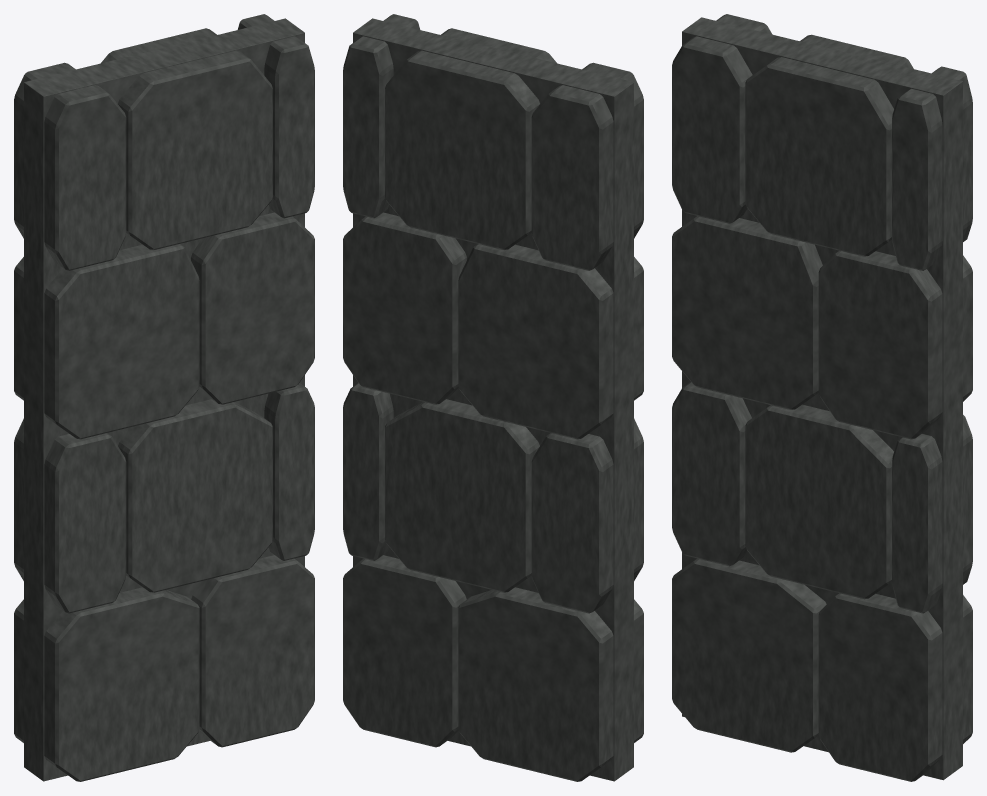
The model's file is wall_cave_a.glb.
The picture shows the model from 3 angles, left to right: view 1: azimuth 30°, elevation 25°; view 2: azimuth 150°, elevation 25°; view 3: azimuth 330°, elevation 25°; orthographic projection.
Parts seen in each view (by area): view 1: wall_cave_a; view 2: wall_cave_a; view 3: wall_cave_a.
Boxes of the visible parts, x1,y1,x2,y2 form: wall_cave_a: (14,14,314,781); wall_cave_a: (343,14,643,781); wall_cave_a: (672,14,972,781).
Size of the model in its own units: 1 by 2.5 by 0.29.
Materials: 1 (1 with a texture image).
